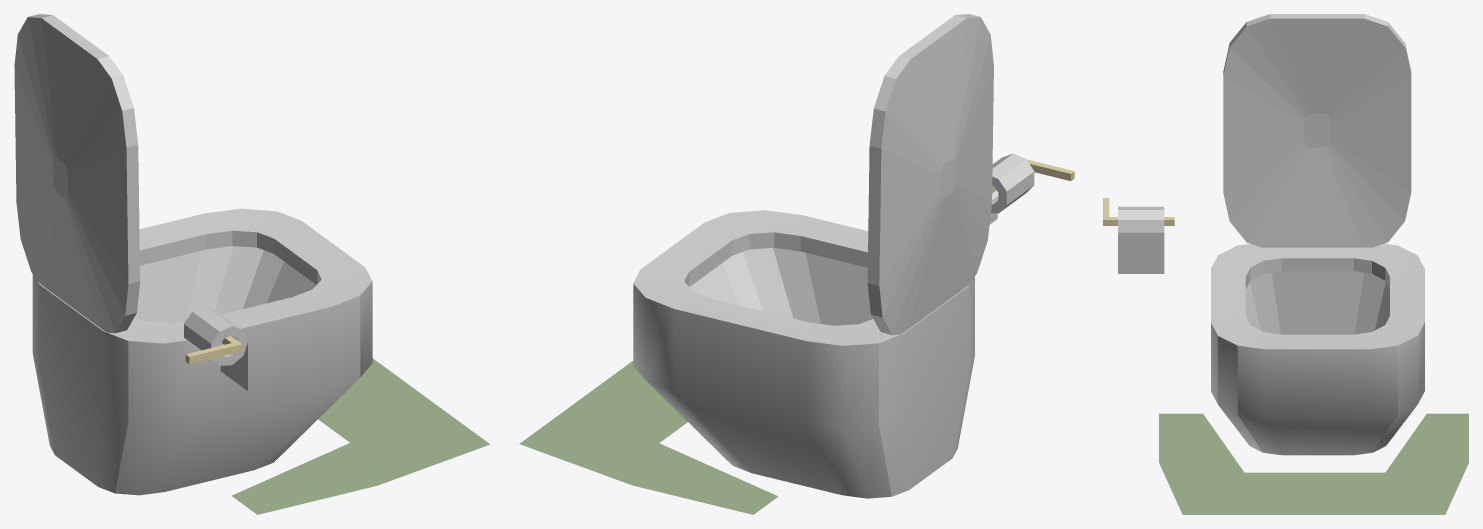
File: geo_toilet_01.fbx
The picture shows the model from 3 angles, left to right: view 1: azimuth 30°, elevation 25°; view 2: azimuth 150°, elevation 25°; view 3: azimuth 270°, elevation 25°; orthographic projection. The views are drawn at different scales.
Parts seen in each view (by area): view 1: geo_Toilet_01, geo_toiletLid_01, geo_FloorMat_02, geo_ToiletPaper_01, geo_toiletRollHolder_01; view 2: geo_Toilet_01, geo_toiletLid_01, geo_FloorMat_02, geo_ToiletPaper_01; view 3: geo_toiletLid_01, geo_Toilet_01, geo_FloorMat_02, geo_ToiletPaper_01.
Part boxes in pixels (x1,y1,x2,y2): geo_Toilet_01: (32,208,372,495); geo_toiletLid_01: (14,14,140,333); geo_FloorMat_02: (231,358,489,514); geo_ToiletPaper_01: (184,306,247,390); geo_toiletRollHolder_01: (185,336,242,364); geo_Toilet_01: (633,210,974,498); geo_toiletLid_01: (867,14,993,334); geo_FloorMat_02: (519,361,778,514); geo_ToiletPaper_01: (989,153,1034,224); geo_toiletLid_01: (1223,14,1411,247); geo_Toilet_01: (1211,243,1424,455); geo_FloorMat_02: (1159,413,1468,514); geo_ToiletPaper_01: (1118,206,1164,273).
Bounding box in the file's own units: 60.48 × 71.73 × 65.17.
